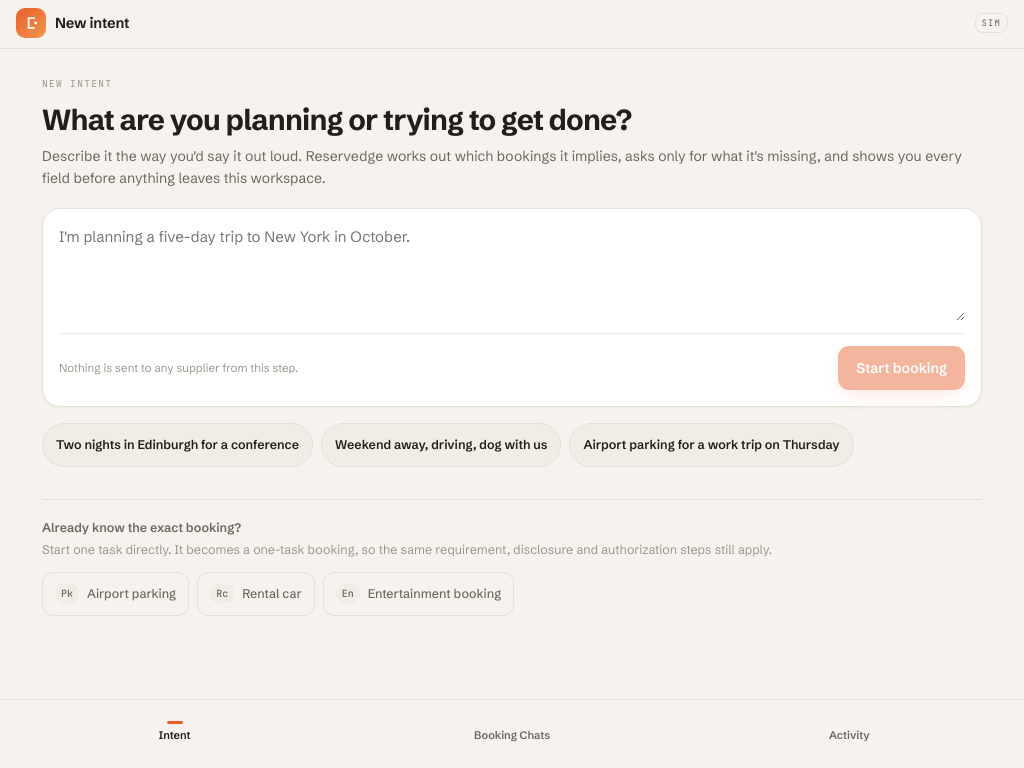
Test: COMP-UX-NEXT multi-domain workspace › keeps Milan shared context and does not force domain cards
Type "I'm travelling to Milan from Mumbai from 20 to 30 October" into the text box labelled "What are you planning or trying to get done?" at coordinates (512, 273), box [59,225,965,321]
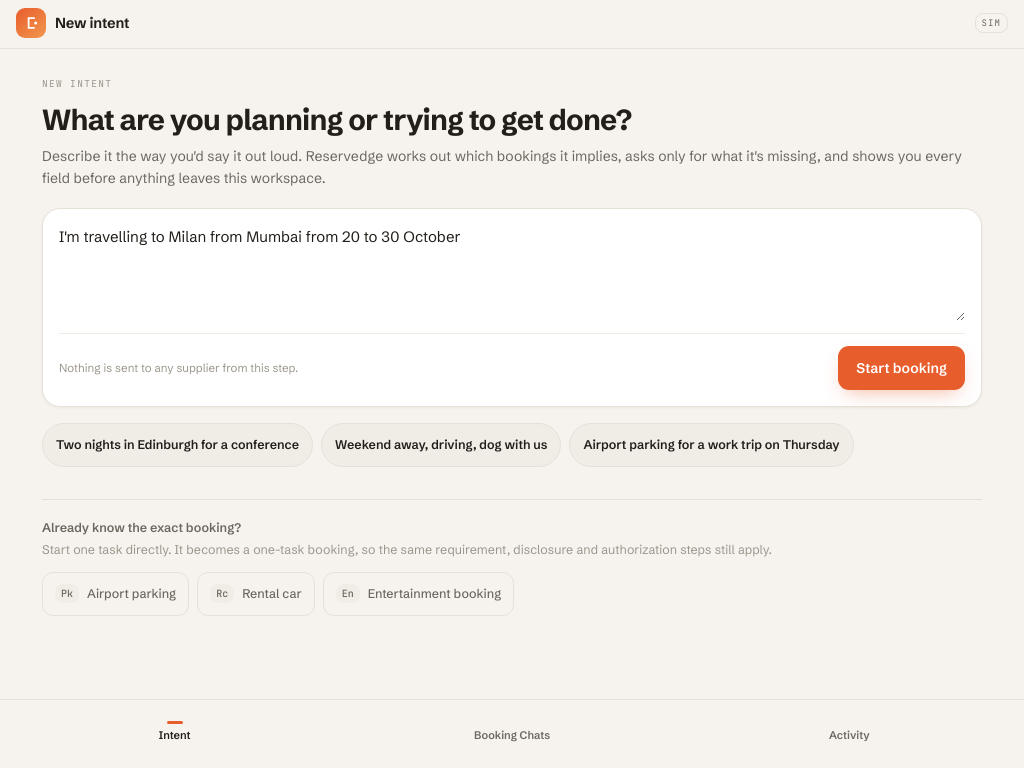
Click the button "Start booking" at coordinates (902, 368), box [838,346,965,390]
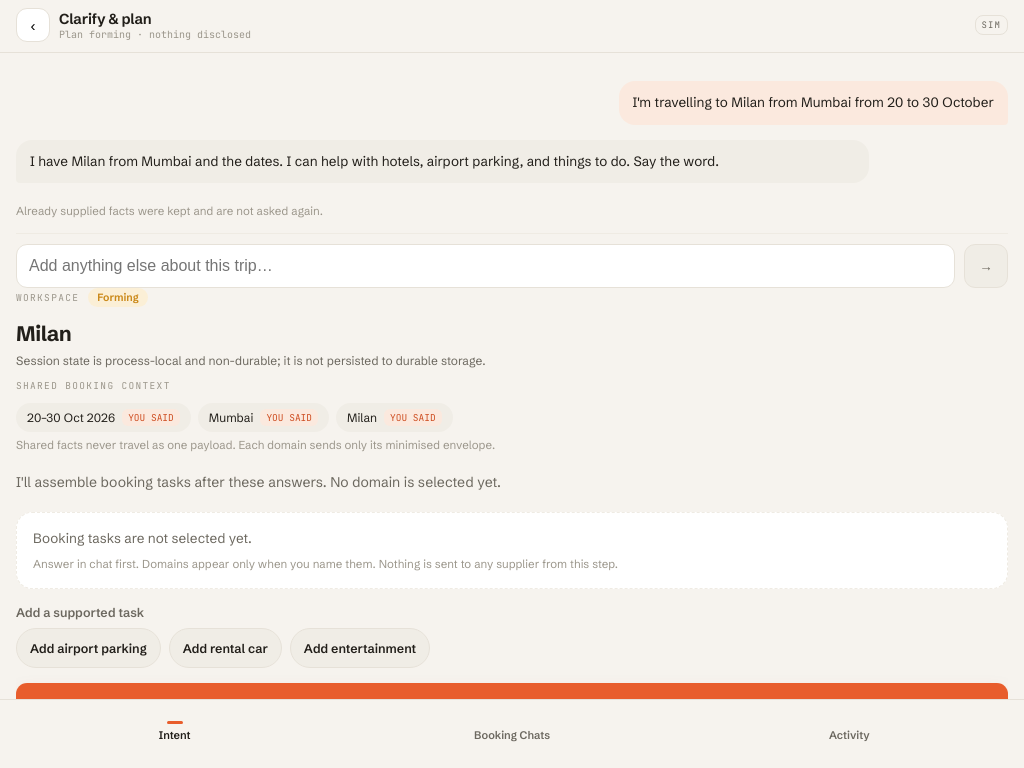
Check: the text "SHARED BOOKING CONTEXT" is shown, box [16,379,171,392]
Check: the text "Mumbai" is shown, box [209,410,253,425]
Check: the text "Booking tasks are not selected yet." is shown, box [33,530,252,546]
